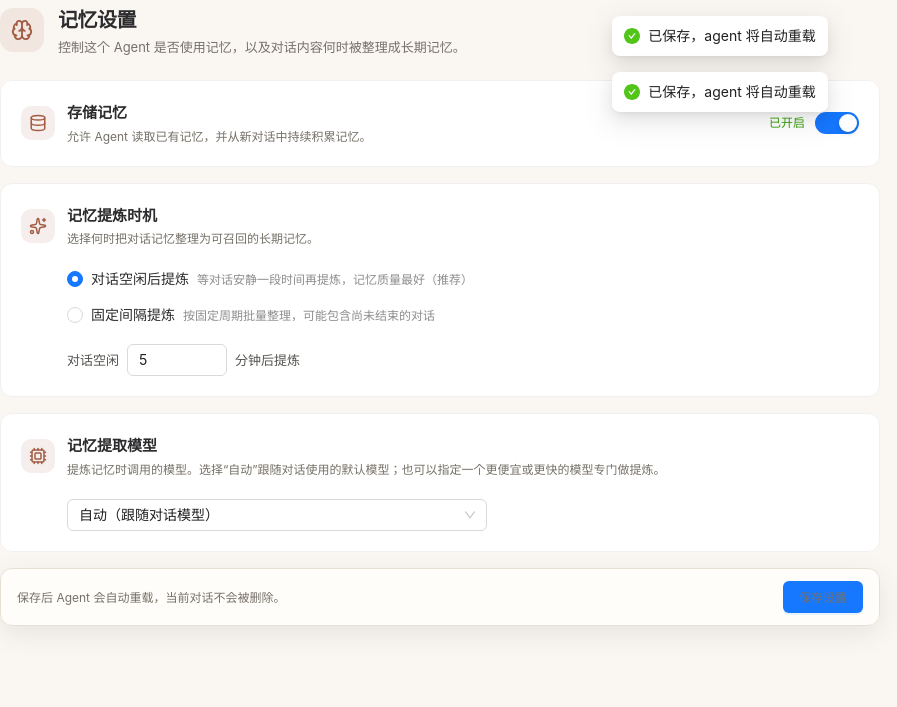
<MemorySettings /> › shows the interval caveat
Click the text "固定间隔提炼" at point(133, 315), box top-left (91, 306), bottom-right (175, 323)
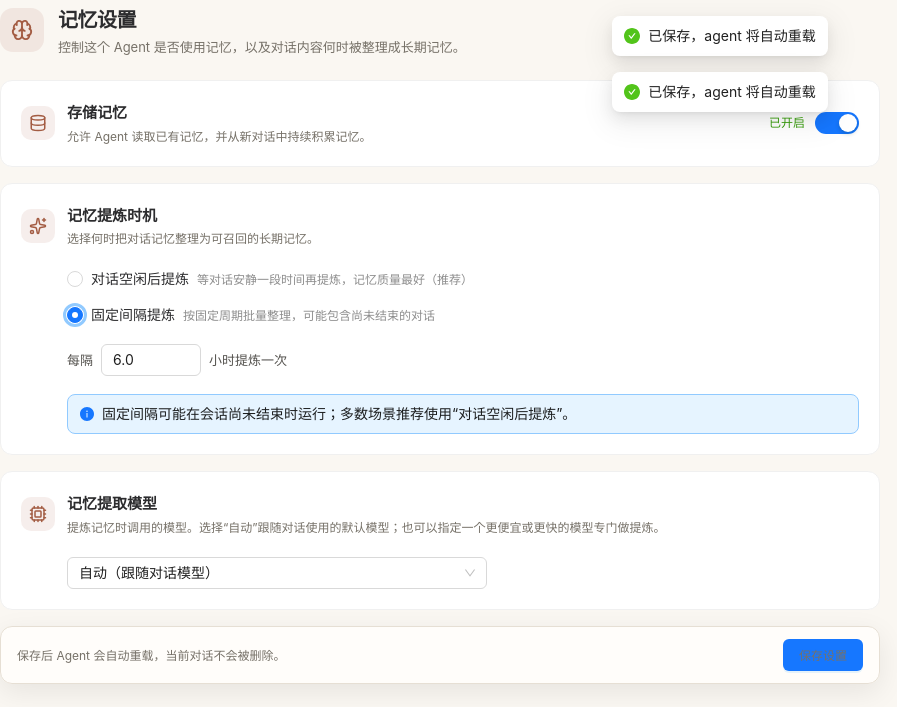
Expected: the text "固定间隔可能在会话尚未结束时运行；多数场景推荐使用“对话空闲后提炼”。" is shown, top-left (102, 405), bottom-right (576, 422)
